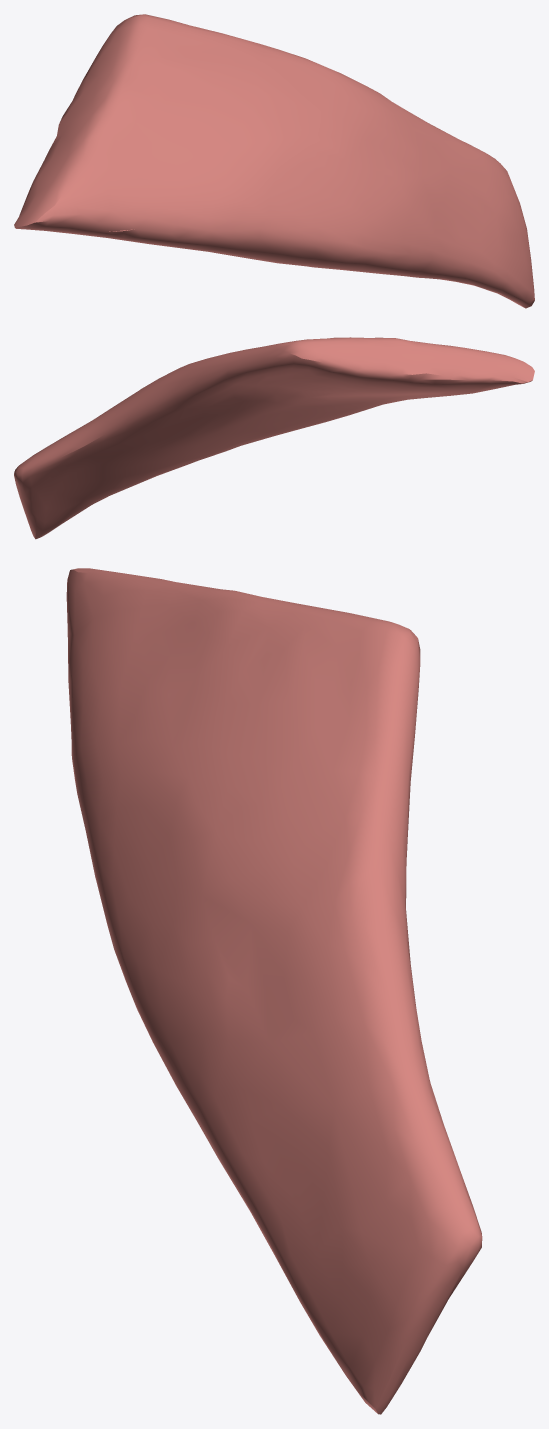
The model's file is fma34691_mm1785m.glb.
3 views of the same model, one above another, from view 1: azimuth 30°, elevation 25°; view 2: azimuth 150°, elevation 25°; view 3: azimuth 270°, elevation 25° (orthographic). The views are drawn at different scales.
Visible parts, largest first — view 1: FMA34691_MM1785M; view 2: FMA34691_MM1785M; view 3: FMA34691_MM1785M.
Part boxes in pixels (left/top/right/bottom): FMA34691_MM1785M: left=14, top=14, right=534, bottom=308; FMA34691_MM1785M: left=14, top=337, right=534, bottom=539; FMA34691_MM1785M: left=66, top=568, right=482, bottom=1414.
Size of the model in its own units: 0.1162 by 0.0679 by 0.0484.
